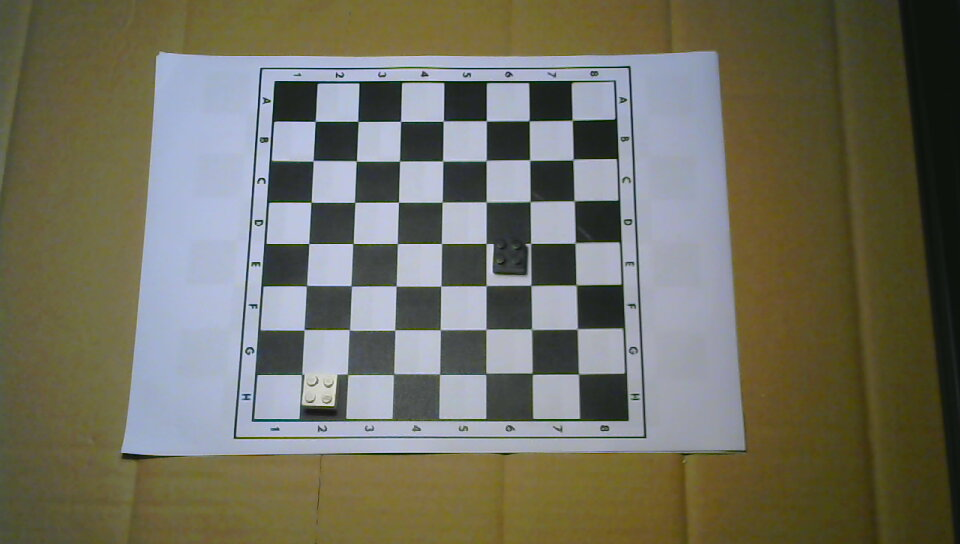bp: (490, 237, 528, 277)
wp: (301, 371, 341, 413)
